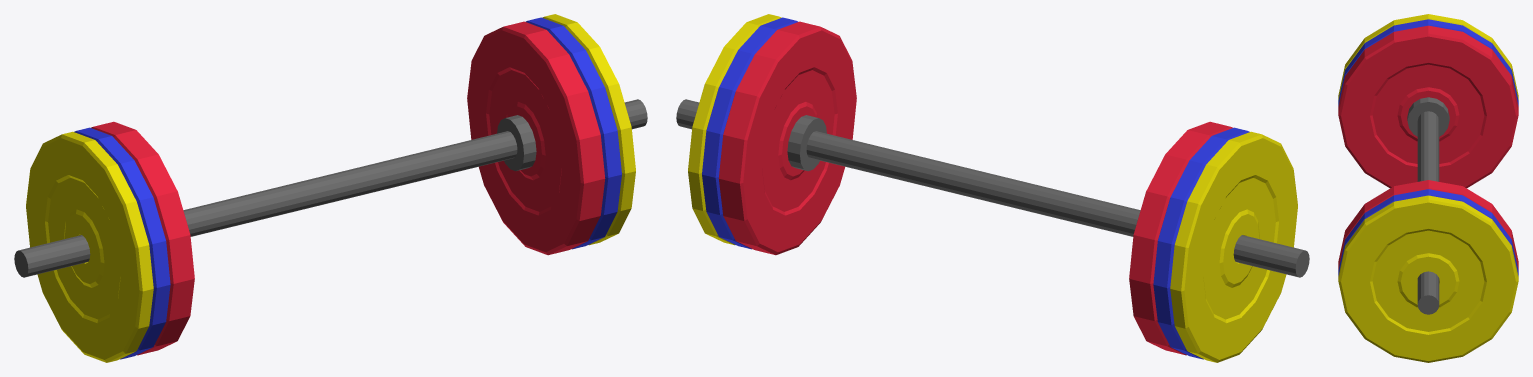
The model's file is Barbell.fbx.
The picture shows the model from 3 angles, left to right: view 1: azimuth 30°, elevation 25°; view 2: azimuth 150°, elevation 25°; view 3: azimuth 270°, elevation 25°; orthographic projection. The views are drawn at different scales.
Visible parts, largest first — view 1: WeightL.R, WeightS.L, Barbell, WeightL.L, WeightM.L, WeightM.R, WeightS.R; view 2: WeightL.R, WeightS.L, Barbell, WeightL.L, WeightM.L, WeightM.R, WeightS.R; view 3: WeightS.R, WeightL.L, Barbell, WeightL.R, WeightM.L, WeightM.R, WeightS.L.
Boxes of the visible parts, box(x1,y1,x2,y2) form: WeightL.R: box(467, 21, 605, 255); WeightS.L: box(26, 131, 153, 362); Barbell: box(14, 99, 647, 277); WeightL.L: box(91, 121, 194, 355); WeightM.L: box(74, 127, 170, 359); WeightM.R: box(525, 17, 621, 249); WeightS.R: box(542, 14, 635, 245); WeightL.R: box(718, 21, 856, 255); WeightS.L: box(1170, 131, 1297, 362); Barbell: box(676, 99, 1309, 277); WeightL.L: box(1129, 121, 1232, 355); WeightM.L: box(1153, 127, 1249, 359); WeightM.R: box(702, 17, 798, 249); WeightS.R: box(688, 14, 781, 245); WeightS.R: box(1338, 195, 1518, 362); WeightL.L: box(1338, 25, 1518, 188); Barbell: box(1407, 97, 1449, 314); WeightL.R: box(1338, 180, 1518, 269); WeightM.L: box(1338, 19, 1518, 106); WeightM.R: box(1338, 189, 1518, 275); WeightS.L: box(1338, 14, 1518, 99).
Size of the model in its own units: 228 by 74.65 by 74.65.
